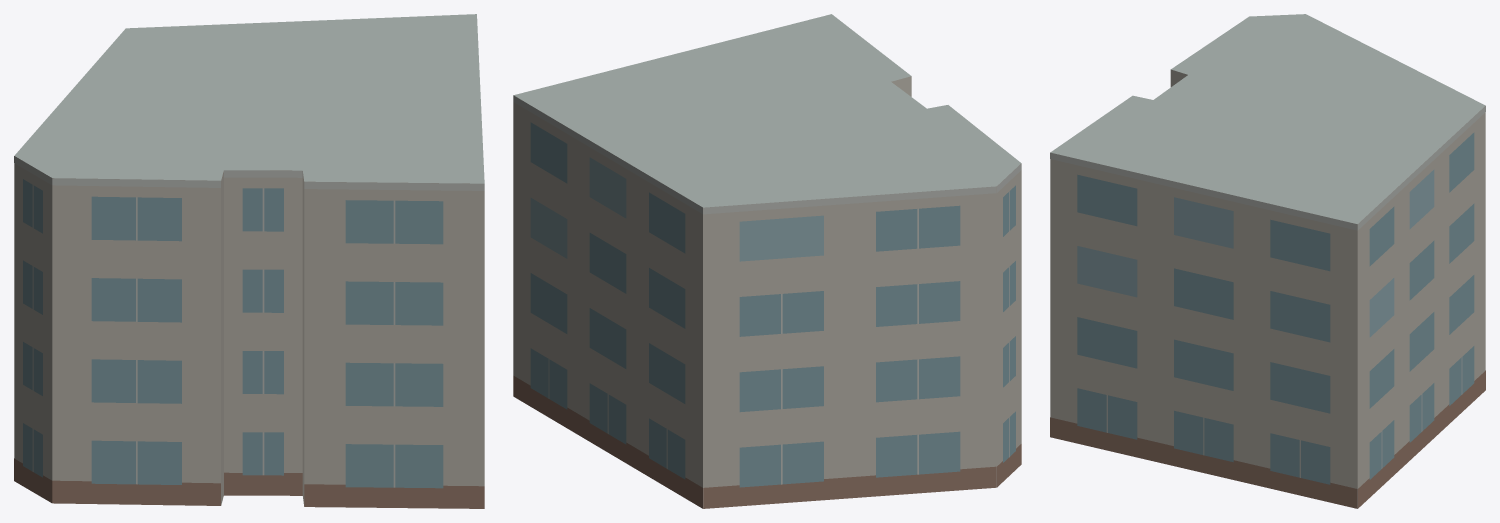
Rendered from survey-upis-32771628.glb.
The picture shows the model from 3 angles, left to right: view 1: azimuth 30°, elevation 25°; view 2: azimuth 150°, elevation 25°; view 3: azimuth 270°, elevation 25°; orthographic projection. The views are drawn at different scales.
Parts seen in each view (by area): view 1: survey-upis-32771628.tmp; view 2: survey-upis-32771628.tmp; view 3: survey-upis-32771628.tmp.
Part boxes in pixels (box(x1,y1,x2,y2)): survey-upis-32771628.tmp: box(14, 14, 484, 508); survey-upis-32771628.tmp: box(513, 14, 1021, 508); survey-upis-32771628.tmp: box(1050, 14, 1485, 508).
Size of the model in its own units: 17.12 by 10.8 by 14.99.
